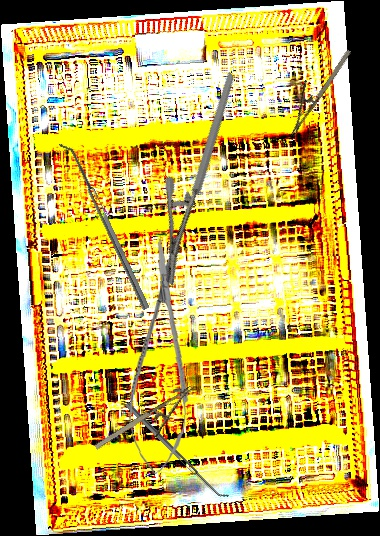Micro Scissor: (124, 238, 199, 476)
Needle Holder: (107, 71, 295, 287), (92, 384, 207, 466), (274, 39, 354, 138)
Spatula Surgical: (58, 138, 150, 314), (125, 398, 229, 503)
